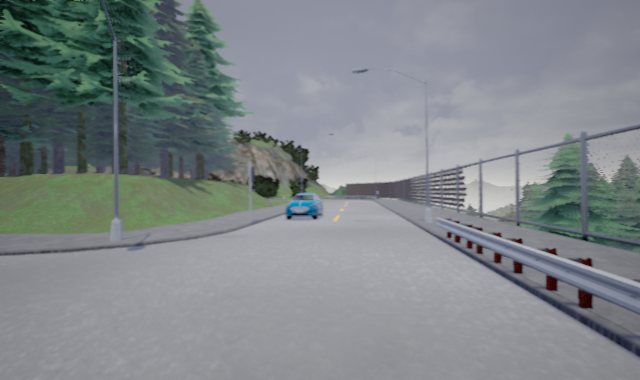vehicle: (282, 191, 325, 220)
